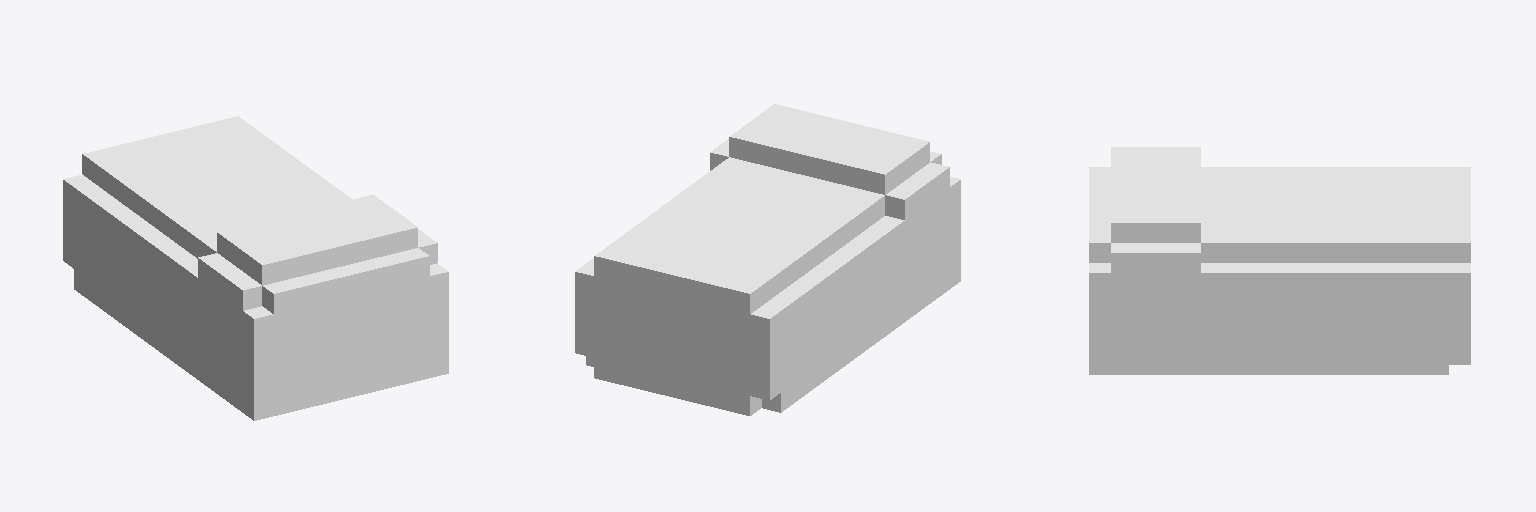
The model's file is apacuerp.obj.
The picture shows the model from 3 angles: view 1: azimuth 30°, elevation 25°; view 2: azimuth 150°, elevation 25°; view 3: azimuth 270°, elevation 25°; orthographic projection.
Parts seen in each view (by area): view 1: apacuerp; view 2: apacuerp; view 3: apacuerp.
Part boxes in pixels (bbox=[...]): apacuerp: bbox=[63, 116, 448, 420]; apacuerp: bbox=[575, 104, 960, 415]; apacuerp: bbox=[1089, 147, 1470, 374].
Bounding box in the file's own units: 1 × 0.7 × 1.7.